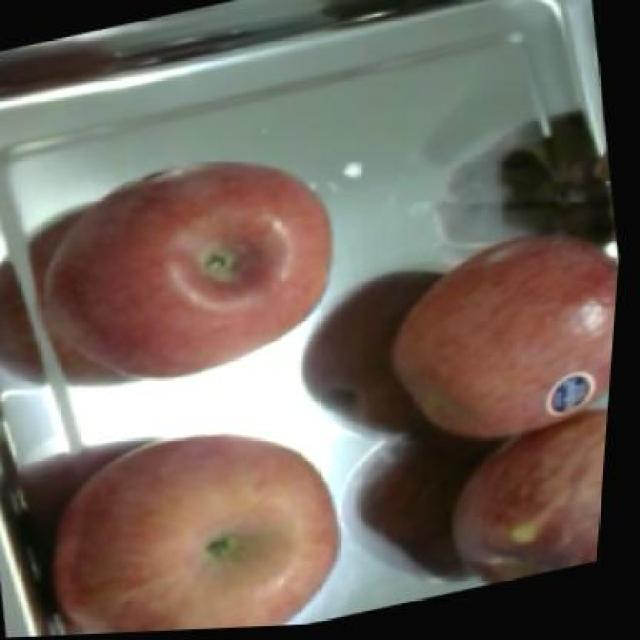Fresh Apple: (61, 164, 342, 385), (65, 437, 335, 640), (391, 238, 640, 444), (452, 414, 620, 581)
